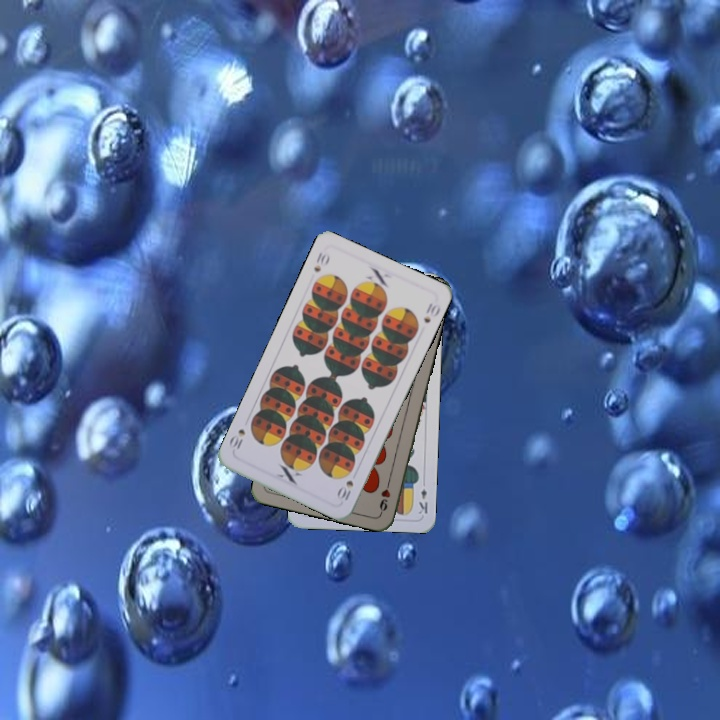EK: (415, 485, 430, 517)
H9: (375, 475, 393, 515)
S10: (333, 476, 356, 503), (310, 248, 332, 275)
